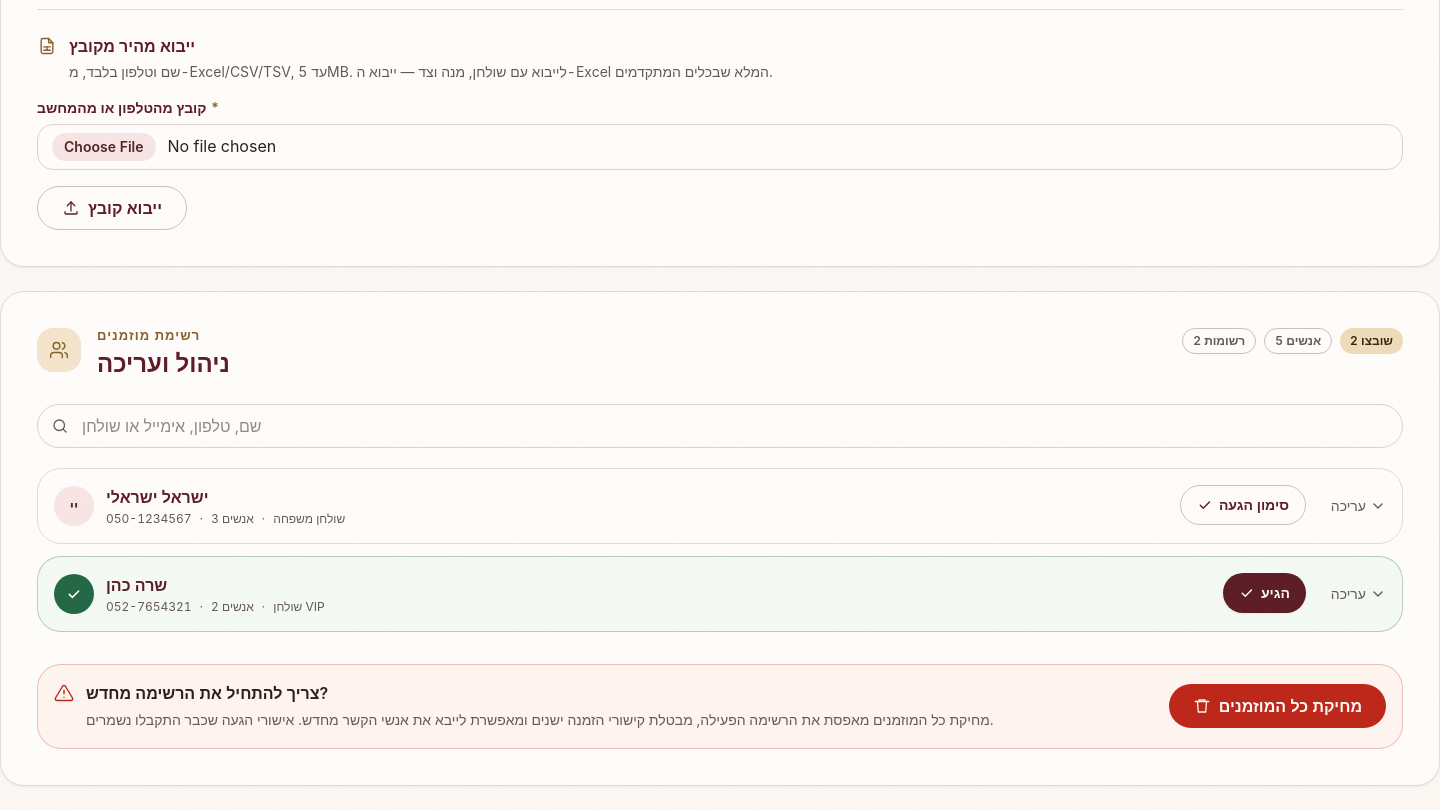
GuestManagementPanel › offers a guarded reset-all action only when guests exist
The image size is (1440, 810).
(page scrolled)
Note: The question is asked by the page, in the page's language, not by `window.confirm`.
Click the button "מחיקת כל המוזמנים".
click(1277, 706)  # box [1169,684,1386,728]
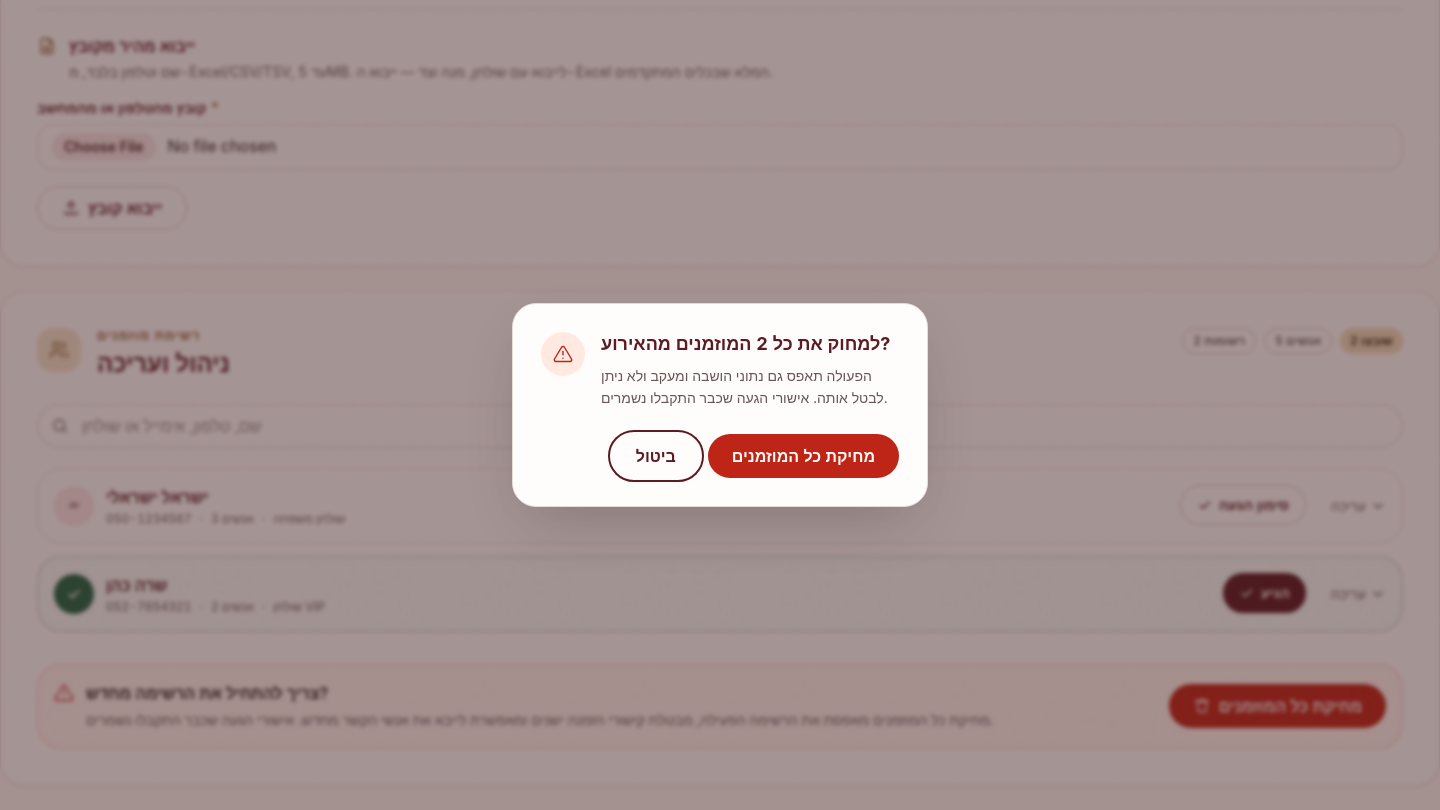
Check: the dialog "למחוק את כל 2 המוזמנים מהאירוע?" shows "הפעולה תאפס גם נתוני הושבה ומעקב ולא ניתן לבטל אותה.", box [601,367,888,406]
Note: Cancelling closes it without touching the form.
Click the button "ביטול".
click(656, 456)  # box [612,434,700,478]
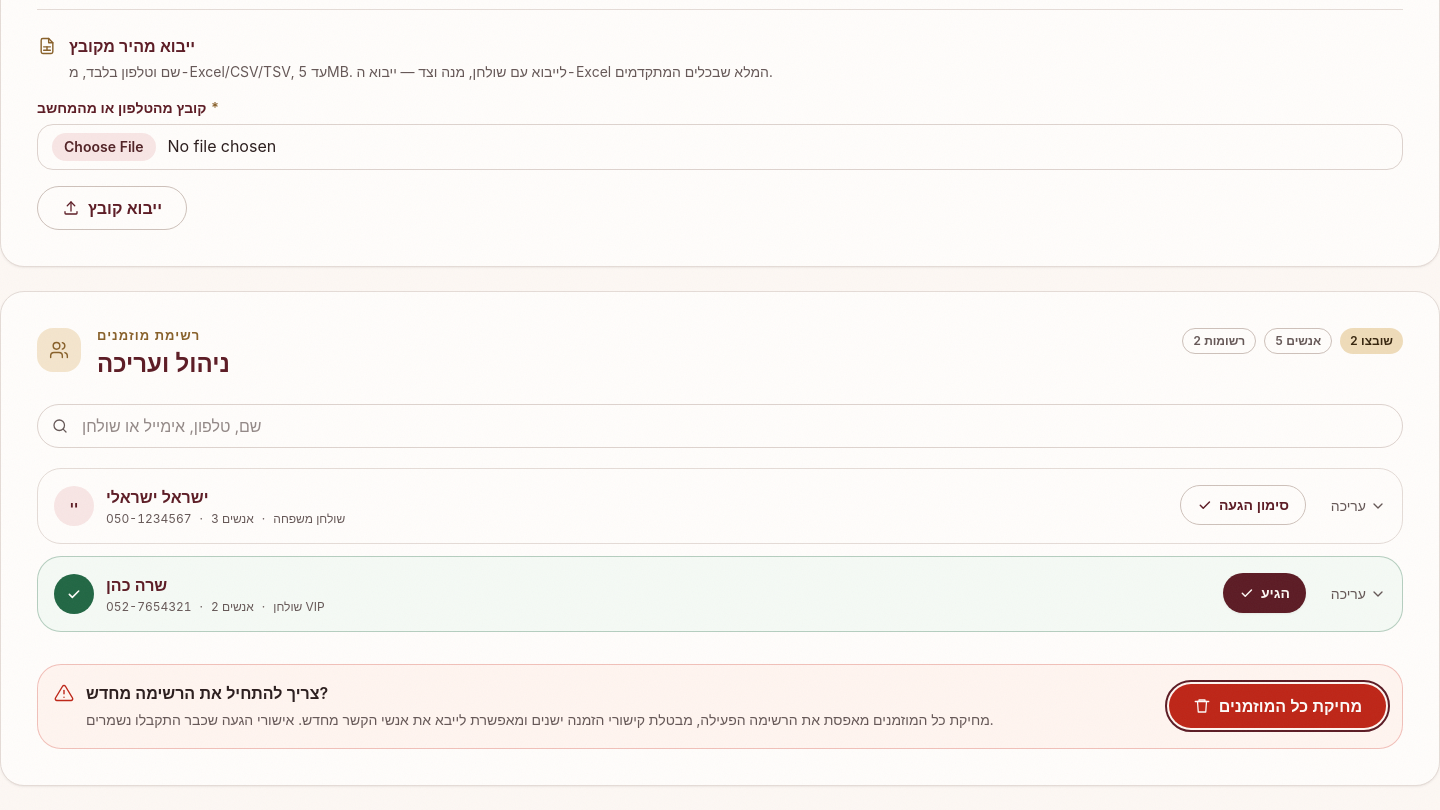
Check: the heading "למחוק את כל 2 המוזמנים מהאירוע?" is gone
